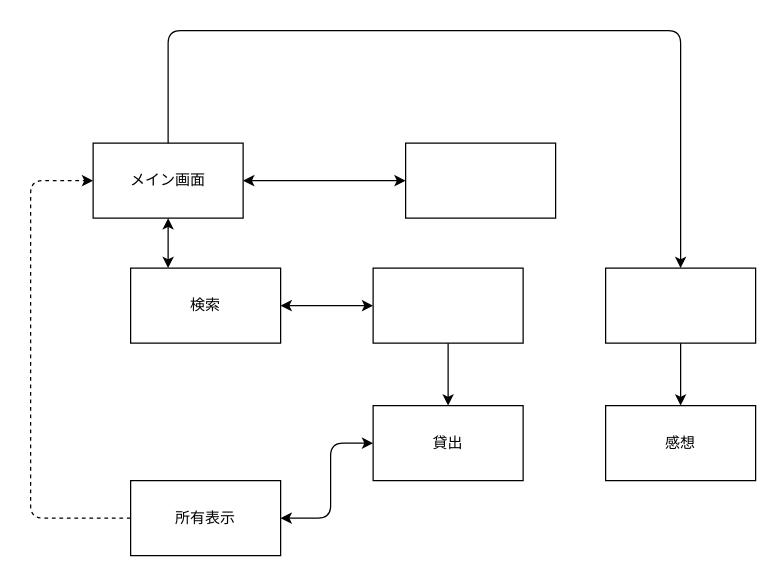
Some shapes in this 778 by 578 pixel diagram are drawn without their labels. Each missing label, with the centre of its shape:
"会員登録" belongs at point 480,180.
"検査結果" belongs at point 447,305.
"返却" belongs at point 680,305.
